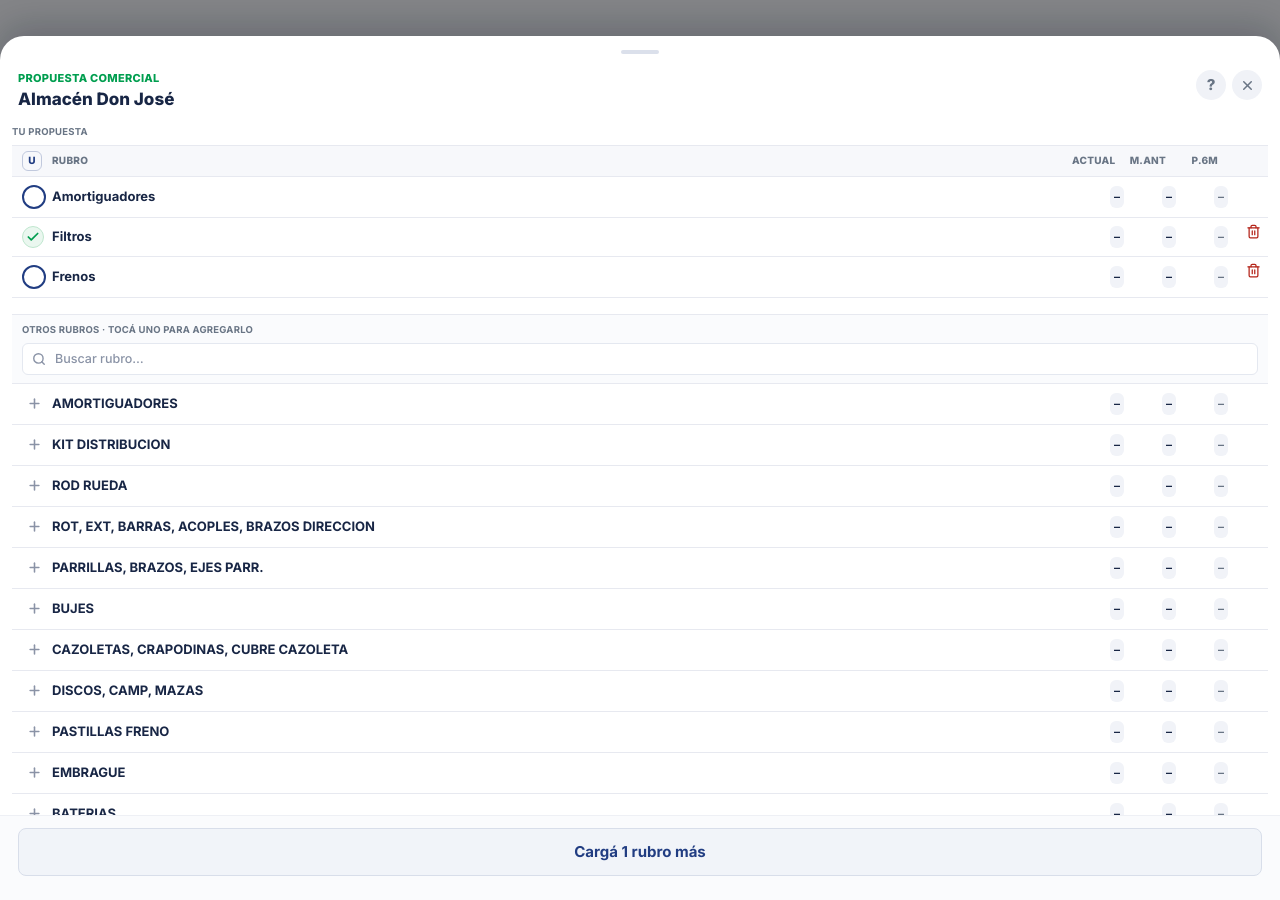
con 2 de 3 rubros completos ya alcanza el mínimo, sin exigir el tercero
Check: the text "Frenos" is shown, box [52, 268, 96, 284]
Check: the button "Cargá 1 rubro más" is disabled, box [18, 828, 1262, 876]
Click the button with aria-label "Resolución de Amortiguadores": (104,196) [12, 177, 1238, 217]
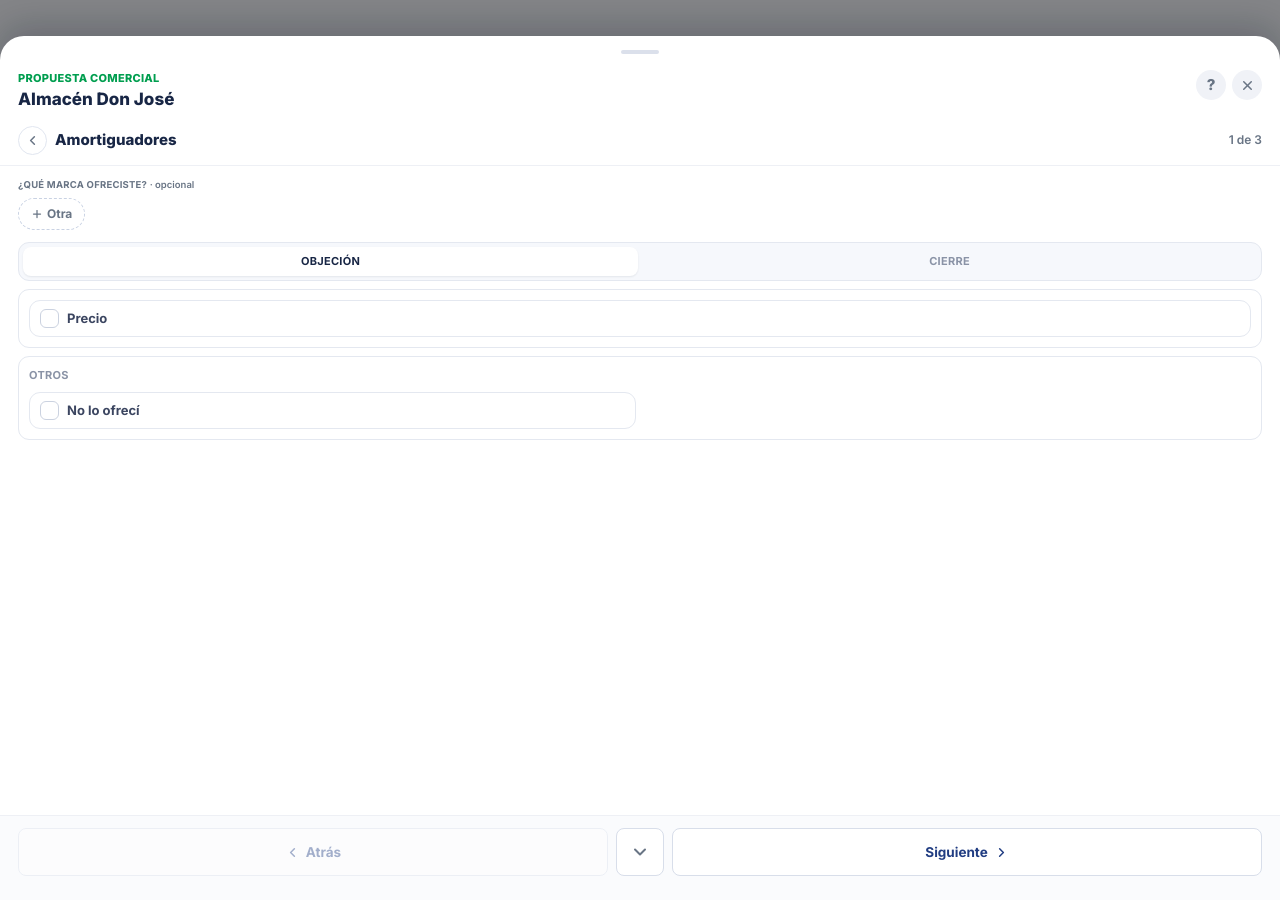
Click the button "Cierre": (950,261) [642, 247, 1257, 276]
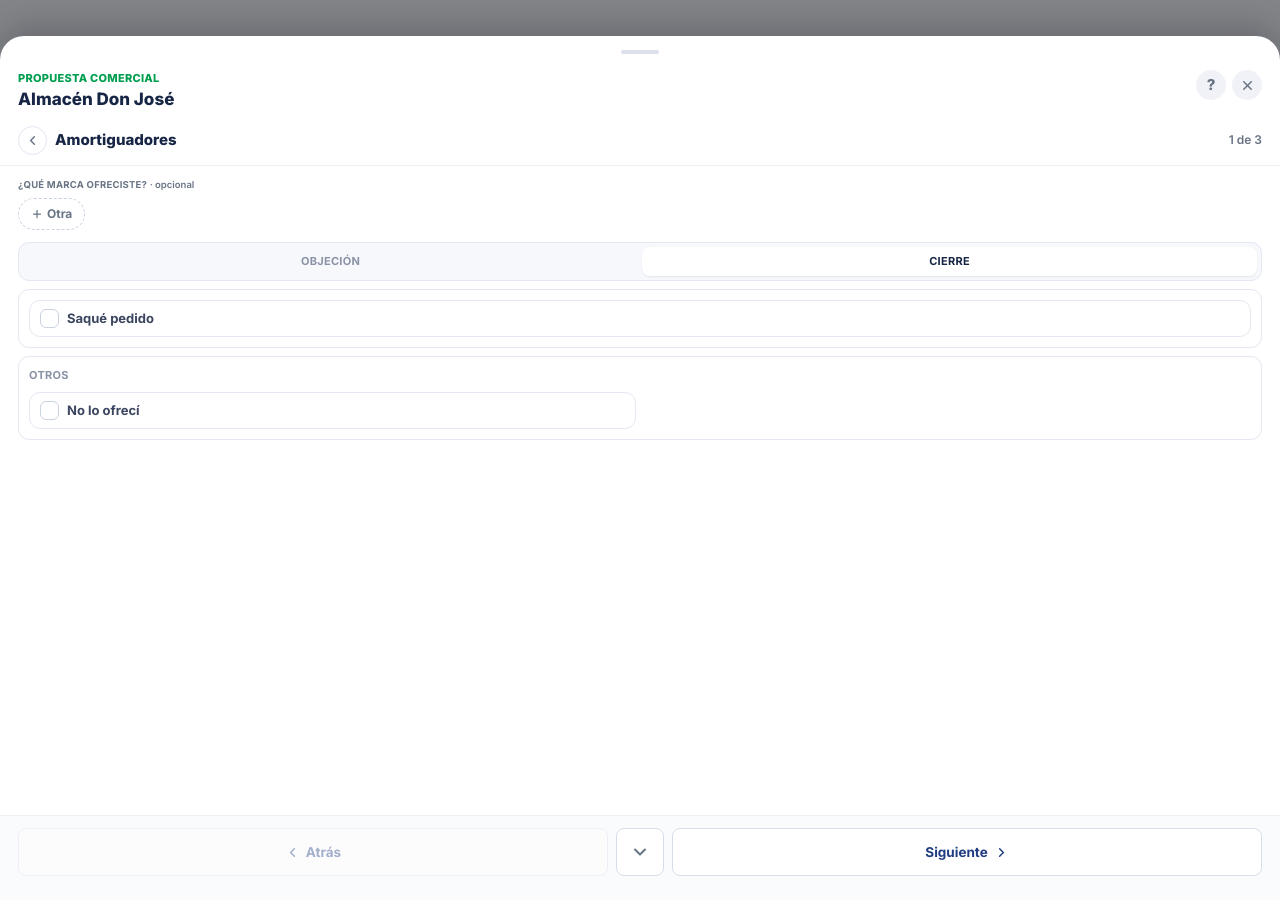
Click the button "Saqué pedido": (110,318) [29, 300, 1251, 337]
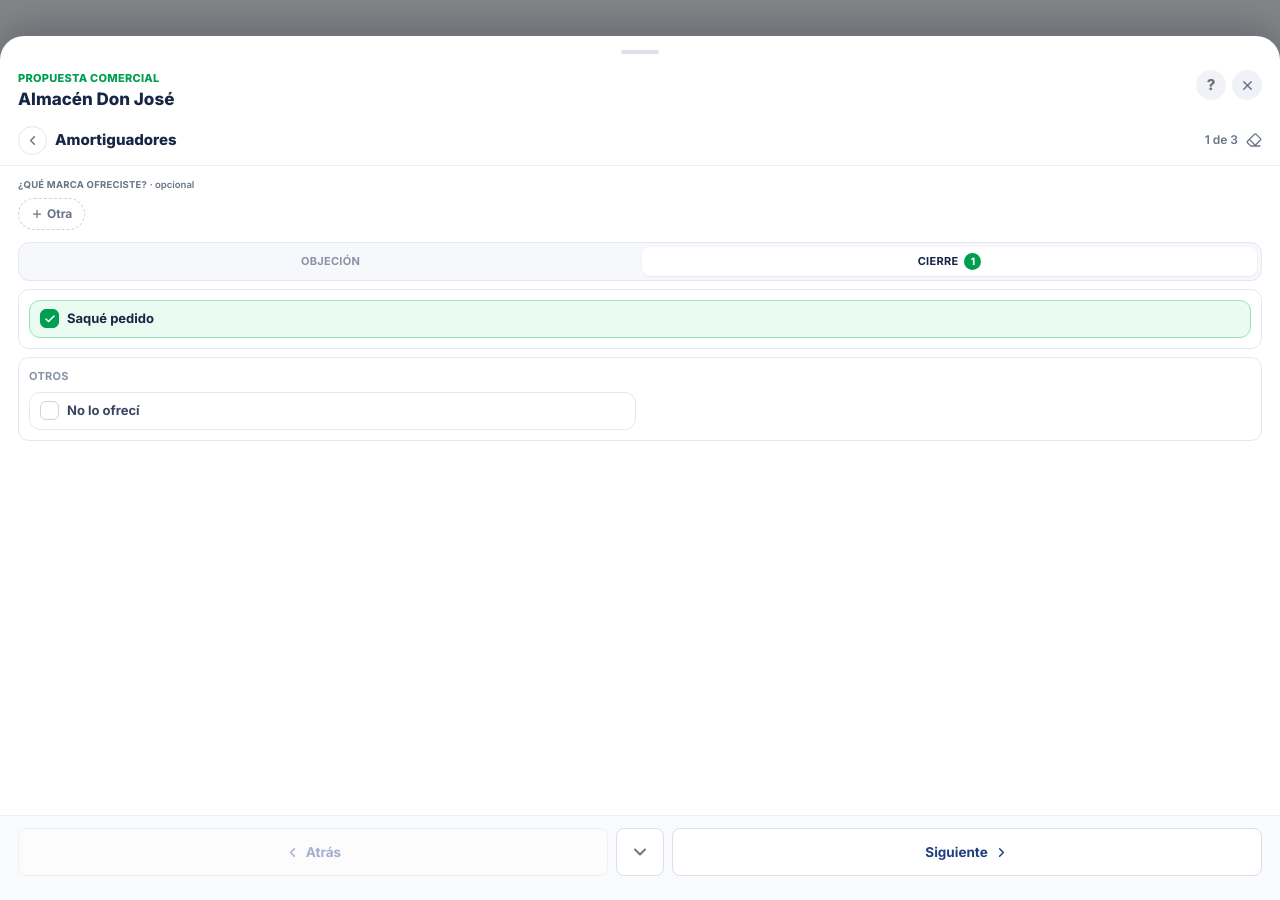
Click the button named "minimizar y ver lista": (640,852) [616, 828, 664, 876]
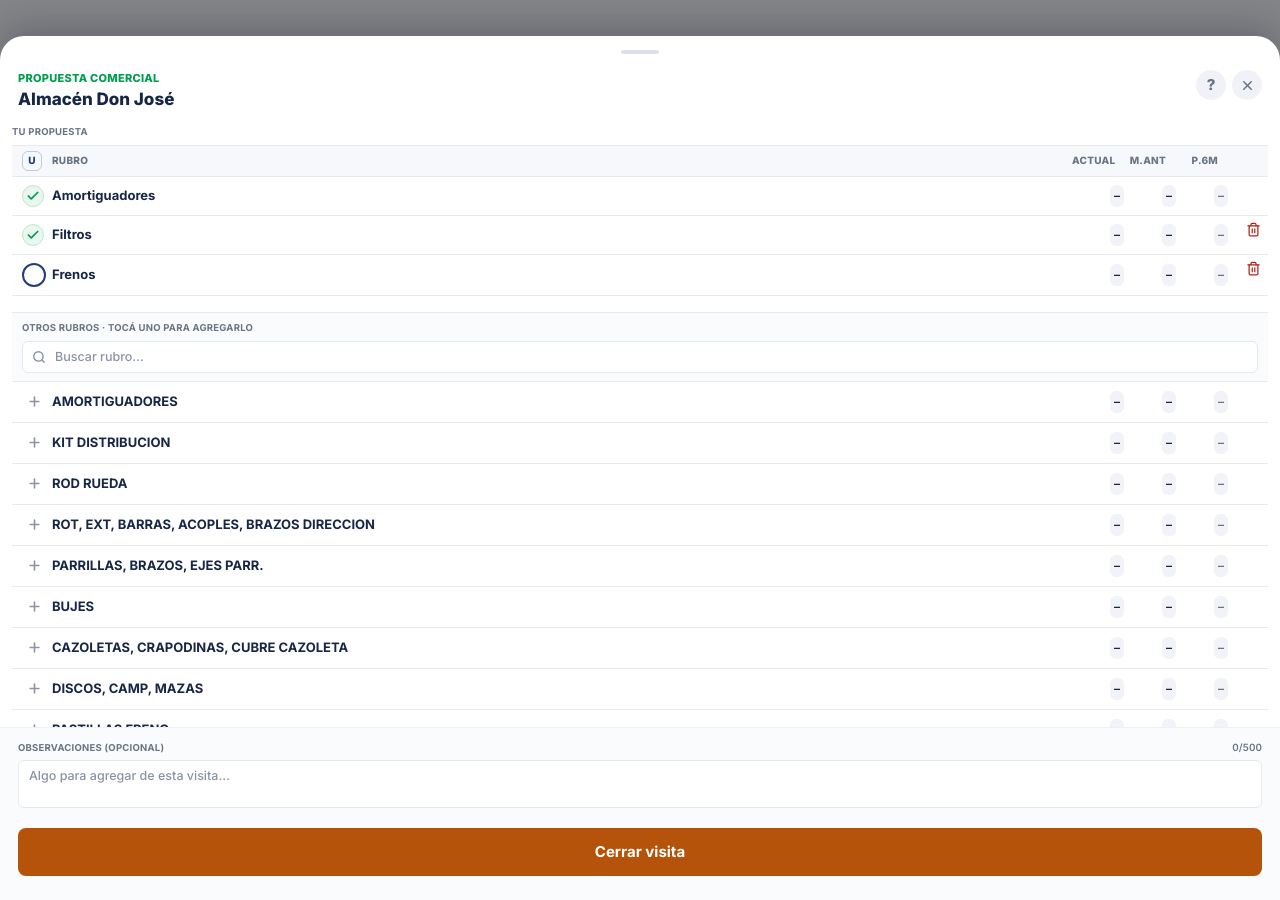
Check: the button "Cerrar visita" is enabled, box [18, 828, 1262, 876]
